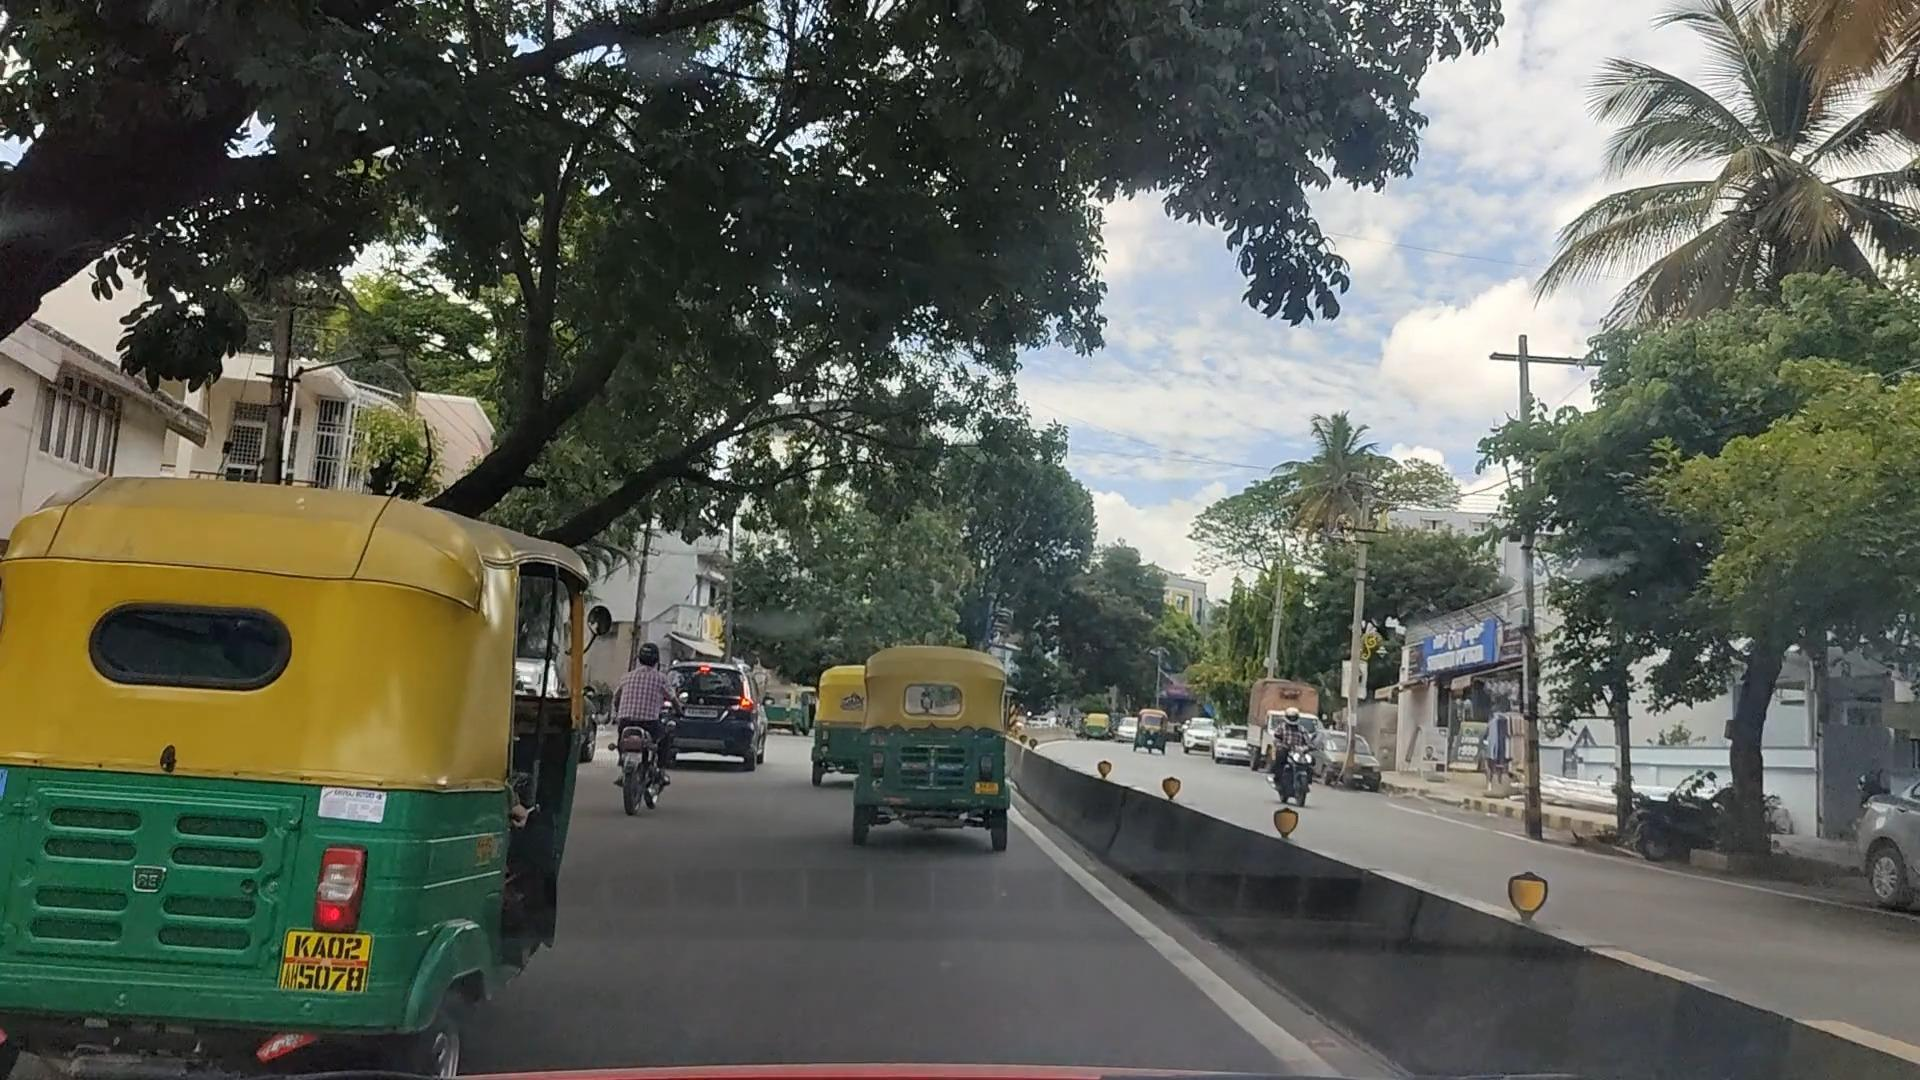LMV: (0, 493, 591, 1051), (840, 658, 1039, 866), (618, 646, 682, 828), (686, 666, 775, 782)
